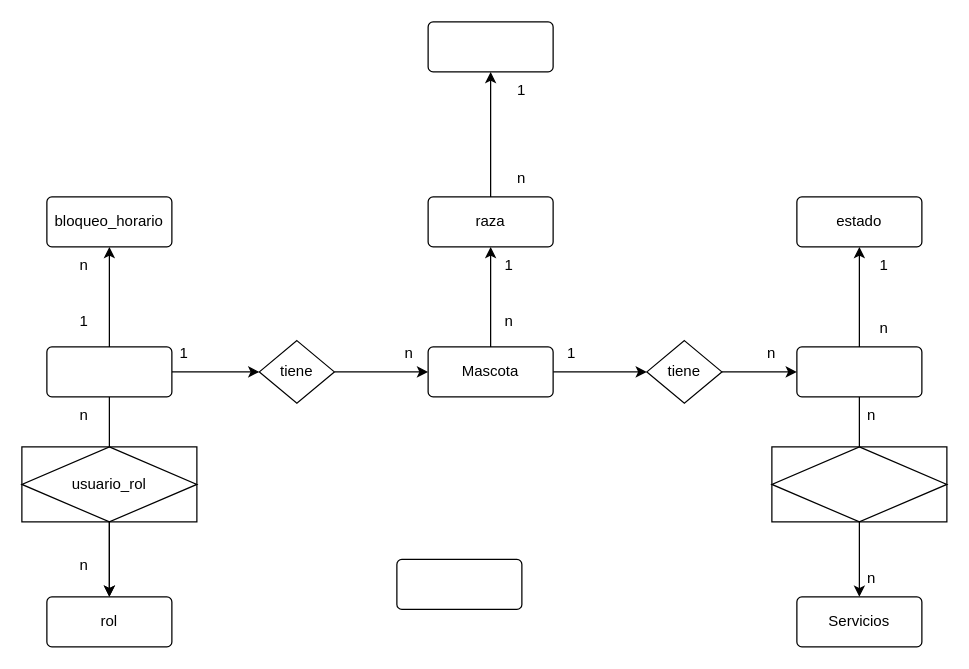
This 969x669 diagram has some shape labels left out. The centre of each missing label's shape, as x and y in pixels:
Citas: [859,371]
CitaServicios: [859,484]
especie: [490,46]
horario: [459,583]
Usuario: [109,371]
